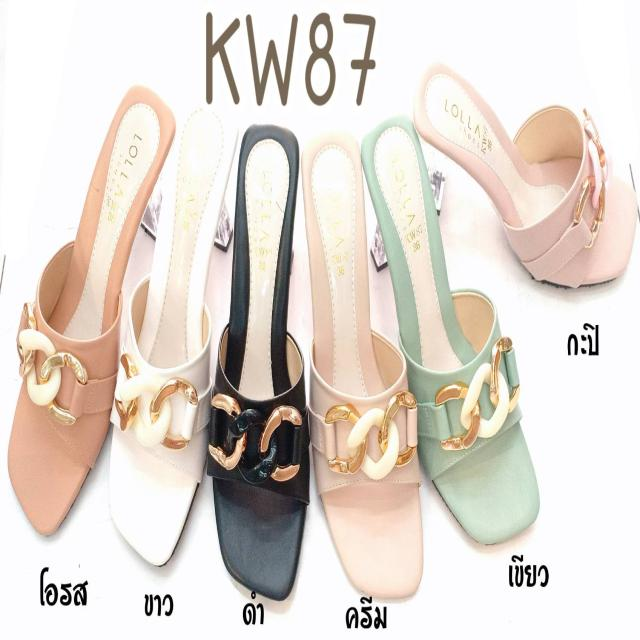black: (214, 122, 308, 596)
cream: (301, 130, 425, 598)
green: (361, 121, 540, 547)
kapi: (417, 61, 633, 286)
orot: (11, 83, 170, 526)
white: (108, 93, 236, 565)
